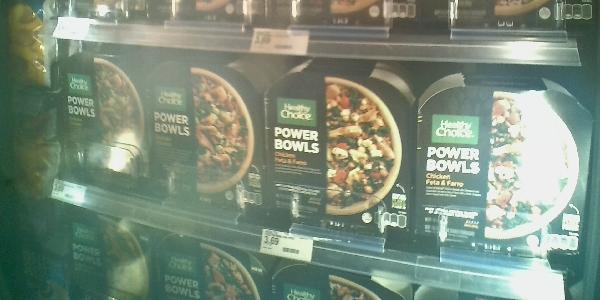pizza: (414, 84, 583, 259), (268, 78, 409, 260), (158, 58, 263, 213), (56, 45, 155, 194)
